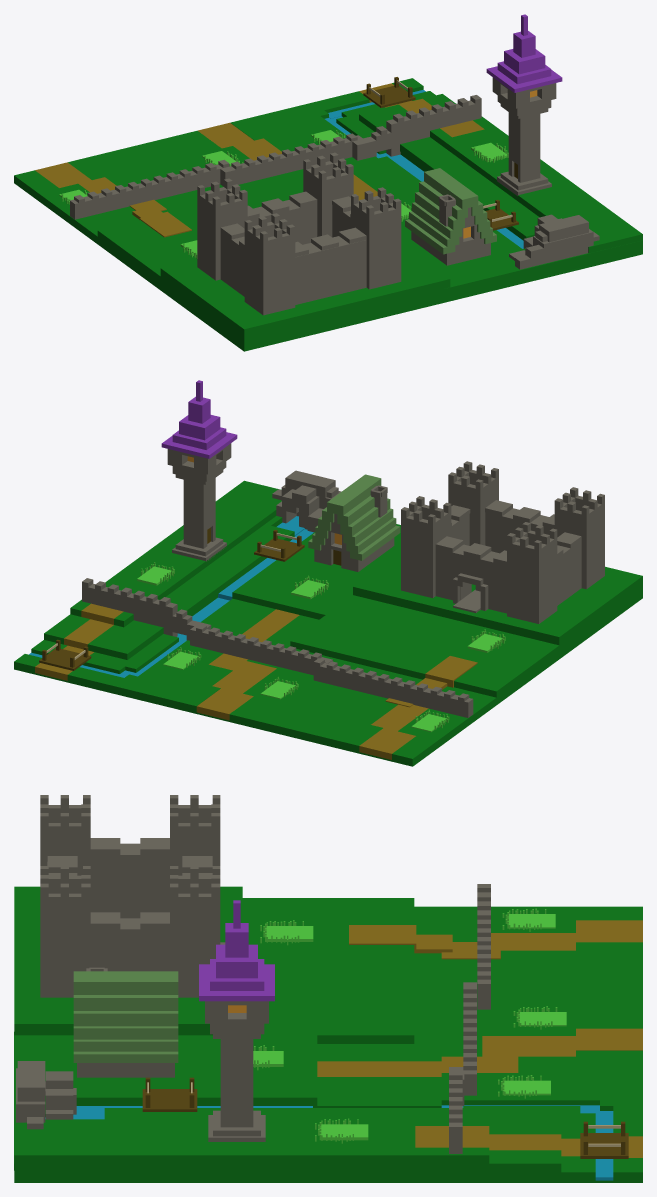
File: passado.fbx
The picture shows the model from 3 angles, top to bottom: view 1: azimuth 30°, elevation 25°; view 2: azimuth 150°, elevation 25°; view 3: azimuth 270°, elevation 25°; orthographic projection. The views are drawn at different scales.
Visible parts, largest first — view 1: cube_1, cube_158, cube_34, cube_2, cube_8, cube_164, cube_26, cube_103, cube_24, cube_202, cube_102, cube_60 (+44 smaller); view 2: cube_1, cube_34, cube_2, cube_8, cube_26, cube_3, cube_158, cube_24, cube_103, cube_202, cube_60, cube_102 (+42 smaller); view 3: cube_1, cube_34, cube_2, cube_24, cube_158, cube_26, cube_37, cube_8, cube_163, cube_31, cube_67, cube_43 (+71 smaller).
Boxes of the visible parts, bbox=[...] form: cube_1: bbox=[97, 180, 444, 349]; cube_158: bbox=[171, 243, 450, 337]; cube_34: bbox=[442, 126, 642, 253]; cube_2: bbox=[391, 187, 543, 301]; cube_8: bbox=[359, 104, 539, 240]; cube_164: bbox=[295, 236, 366, 304]; cube_26: bbox=[68, 130, 221, 179]; cube_103: bbox=[70, 164, 228, 219]; cube_24: bbox=[118, 146, 281, 209]; cube_202: bbox=[220, 135, 362, 186]; cube_102: bbox=[386, 100, 481, 156]; cube_60: bbox=[230, 104, 327, 140]; cube_1: bbox=[290, 584, 642, 697]; cube_34: bbox=[105, 480, 281, 599]; cube_2: bbox=[232, 524, 400, 619]; cube_8: bbox=[87, 524, 294, 659]; cube_26: bbox=[229, 696, 382, 751]; cube_3: bbox=[353, 579, 570, 645]; cube_158: bbox=[364, 552, 642, 636]; cube_24: bbox=[243, 667, 387, 721]; cube_103: bbox=[313, 663, 473, 717]; cube_202: bbox=[190, 626, 332, 675]; cube_60: bbox=[122, 673, 220, 712]; cube_102: bbox=[82, 583, 177, 636]; cube_1: bbox=[242, 898, 414, 1043]; cube_34: bbox=[14, 1119, 415, 1165]; cube_2: bbox=[14, 1031, 317, 1107]; cube_24: bbox=[441, 959, 575, 1035]; cube_158: bbox=[14, 886, 212, 1035]; cube_26: bbox=[576, 942, 642, 1028]; cube_37: bbox=[104, 1150, 561, 1173]; cube_8: bbox=[104, 1108, 561, 1134]; cube_163: bbox=[90, 843, 169, 918]; cube_31: bbox=[317, 953, 441, 1061]; cube_67: bbox=[317, 1077, 441, 1107]; cube_43: bbox=[14, 1163, 314, 1180].
Bounding box in the file's own units: 2512 × 1131 × 2514.
Materials: 10 (10 with a texture image).
